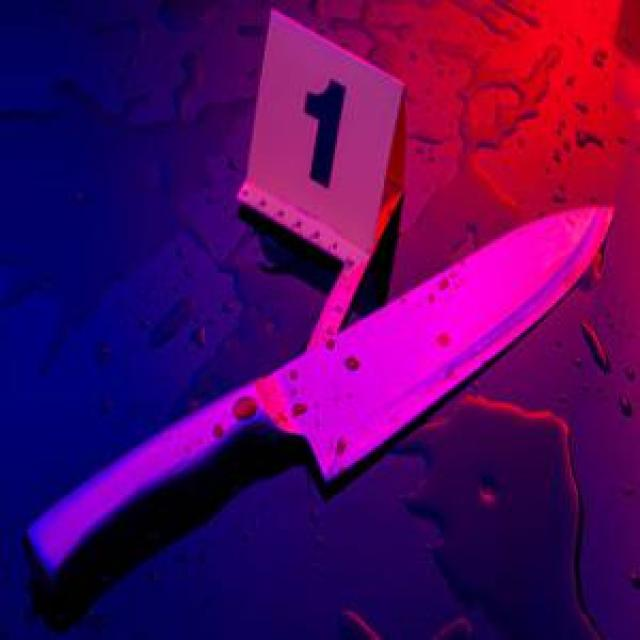knife: (24, 201, 618, 595)
